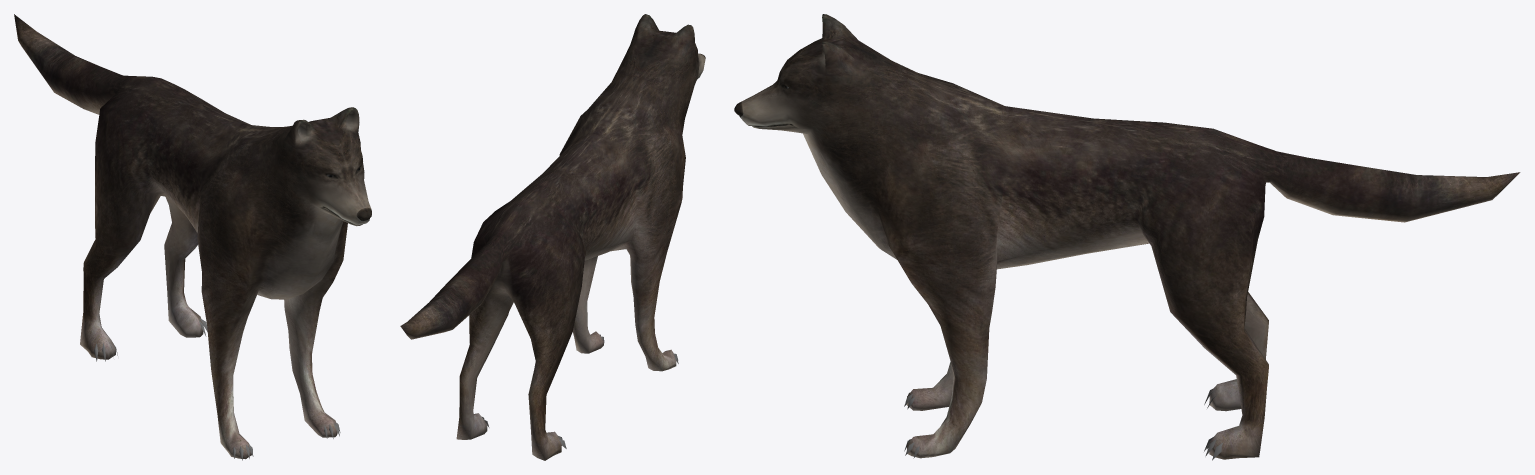
The model's file is wolf_1.glb.
3 renders of one model, left to right at view 1: azimuth 30°, elevation 25°; view 2: azimuth 150°, elevation 25°; view 3: azimuth 270°, elevation 25°, orthographic. The views are drawn at different scales.
Visible parts, largest first — view 1: Wolf1_Material__wolf_col_tga_0, Wolf3_claws_0; view 2: Wolf1_Material__wolf_col_tga_0; view 3: Wolf1_Material__wolf_col_tga_0.
Boxes of the visible parts, x1,y1,x2,y2 form: Wolf1_Material__wolf_col_tga_0: (14,14,371,459); Wolf3_claws_0: (94,318,340,460); Wolf1_Material__wolf_col_tga_0: (400,14,705,460); Wolf1_Material__wolf_col_tga_0: (734,14,1520,459).
Bounding box in the file's own units: 0.2029 × 0.5776 × 1.02.
Materials: 4 (2 with a texture image).
